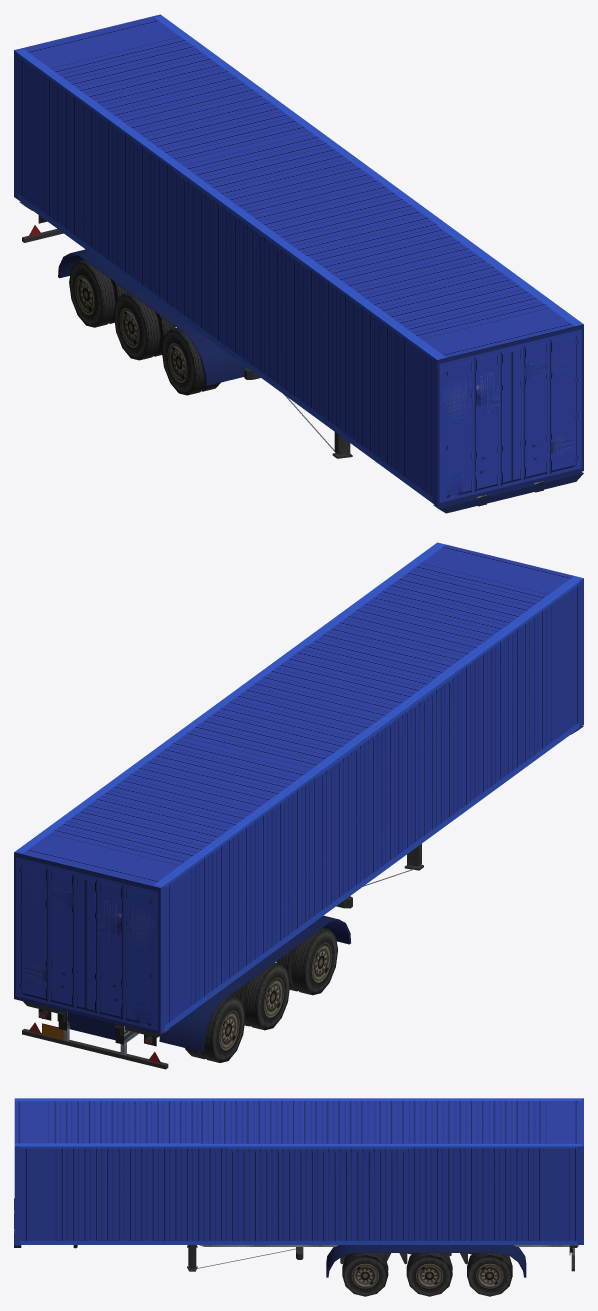
File: Trailer_2.FBX
3 renders of one model, top to bottom at view 1: azimuth 30°, elevation 25°; view 2: azimuth 150°, elevation 25°; view 3: azimuth 270°, elevation 25°, orthographic. The views are drawn at different scales.
Visible parts, largest first — view 1: Trailer 2, Wheel_BR 2, Wheel_BR 1, Wheel_BR 3; view 2: Trailer 2, Wheel_BR 3, Wheel_BR 2, Wheel_BR 1; view 3: Trailer 2, Wheel_BL 2, Wheel_BL 3, Wheel_BL 1.
Boxes of the visible parts, left/top/right/bottom form: Trailer 2: left=14, top=14, right=583, bottom=513; Wheel_BR 2: left=114, top=293, right=175, bottom=360; Wheel_BR 1: left=69, top=260, right=128, bottom=327; Wheel_BR 3: left=161, top=328, right=220, bottom=395; Trailer 2: left=14, top=542, right=583, bottom=1069; Wheel_BR 3: left=276, top=927, right=337, bottom=995; Wheel_BR 2: left=230, top=962, right=290, bottom=1030; Wheel_BR 1: left=185, top=995, right=245, bottom=1062; Trailer 2: left=14, top=1098, right=583, bottom=1277; Wheel_BL 2: left=406, top=1253, right=452, bottom=1296; Wheel_BL 3: left=342, top=1253, right=388, bottom=1296; Wheel_BL 1: left=467, top=1253, right=512, bottom=1296.
Bounding box in the file's own units: 97.65 × 143 × 489.
2 materials, 2 textured.
